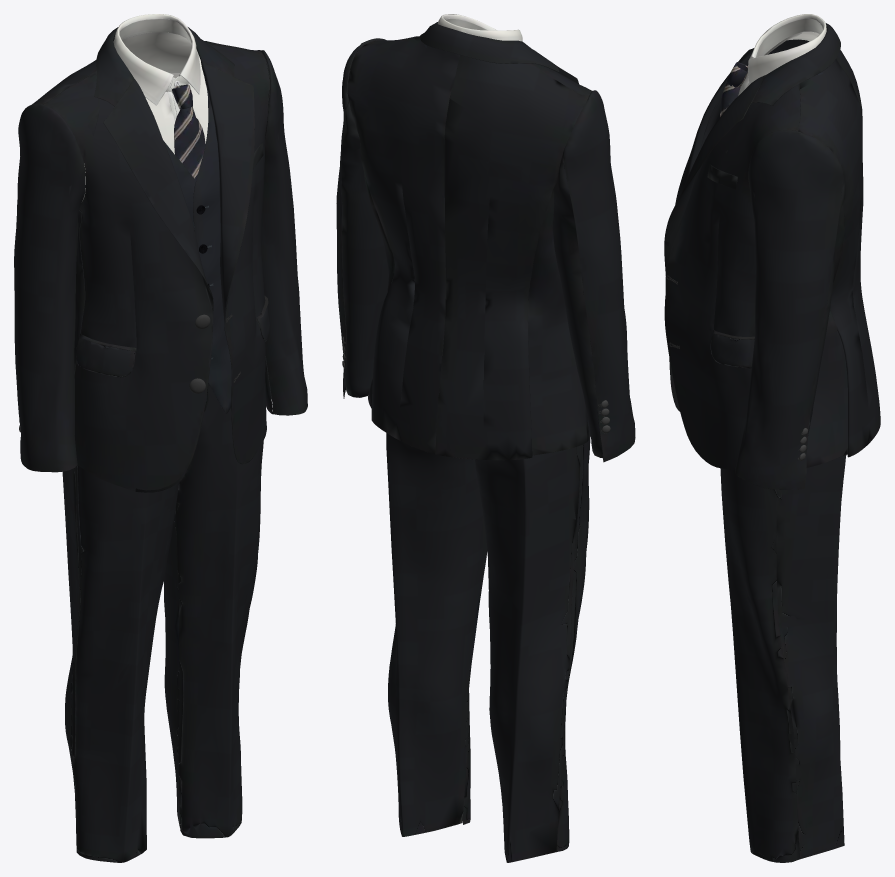
File: suit-draco.glb
3 renders of one model, left to right at view 1: azimuth 30°, elevation 25°; view 2: azimuth 150°, elevation 25°; view 3: azimuth 270°, elevation 25°, orthographic. The views are drawn at different scales.
Visible parts, largest first — view 1: Object_6; view 2: Object_6; view 3: Object_6.
Part boxes in pixels (x1,y1,x2,y2): Object_6: [14, 14, 307, 862]; Object_6: [336, 14, 635, 862]; Object_6: [664, 14, 880, 862].
Bounding box in the file's own units: 545 × 1517 × 372.
Materials: 3 (3 with a texture image).
